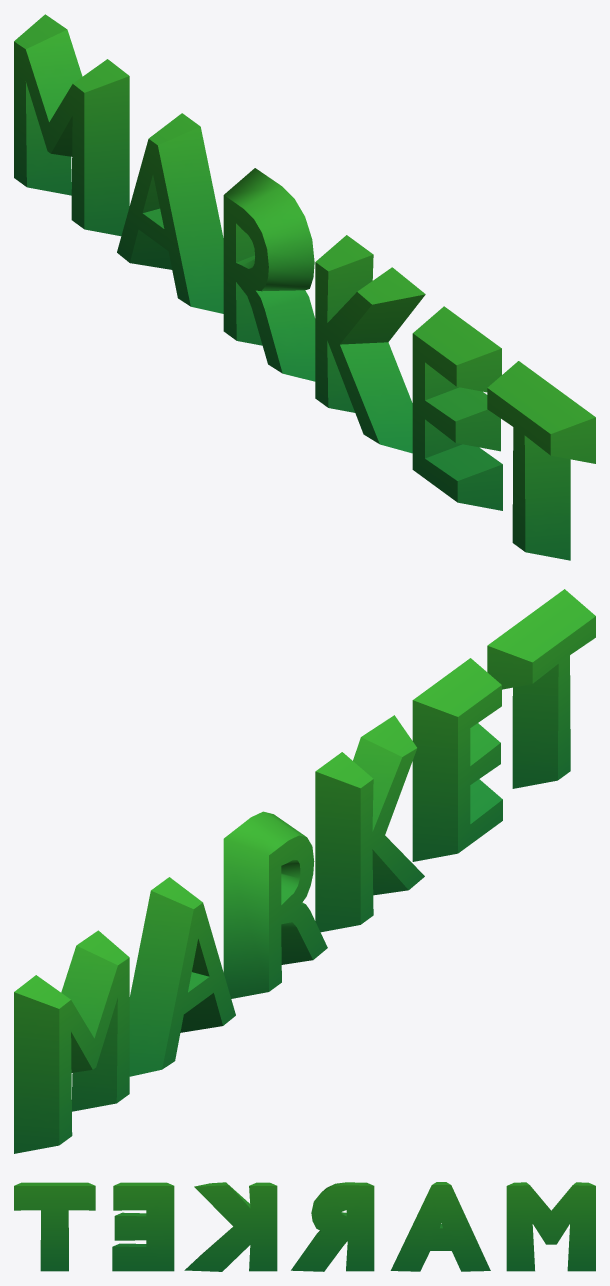
File: MarketSign_1_A.glb
3 views of the same model, one above another, from view 1: azimuth 30°, elevation 25°; view 2: azimuth 150°, elevation 25°; view 3: azimuth 270°, elevation 25° (orthographic). The views are drawn at different scales.
Visible parts, largest first — view 1: MarketSign_1_A; view 2: MarketSign_1_A; view 3: MarketSign_1_A.
Part boxes in pixels (x1,y1,x2,y2): MarketSign_1_A: (14,14,595,560); MarketSign_1_A: (14,589,595,1153); MarketSign_1_A: (14,1182,595,1271).
Size of the model in its own units: 0.5188 by 2.13 by 12.92.
2 materials, 2 textured.
